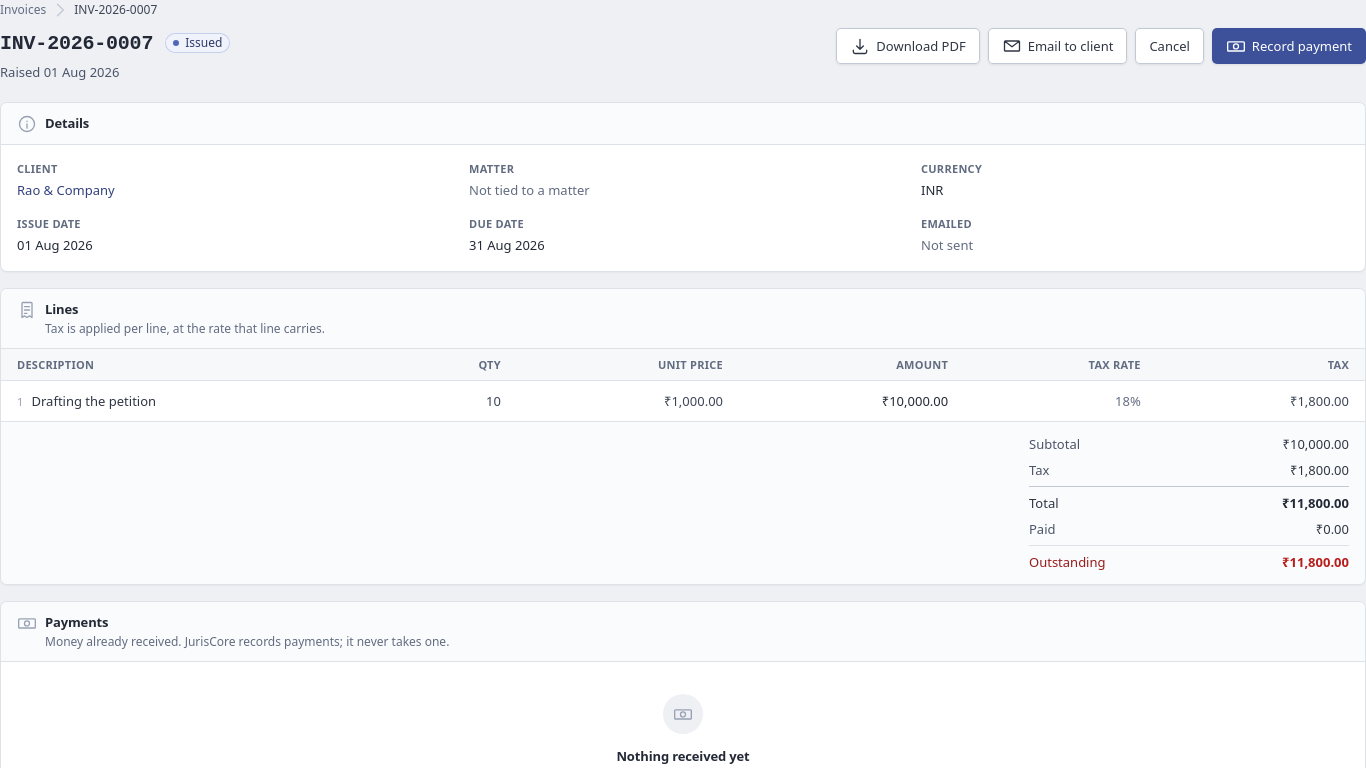
Scenario: InvoiceDetailPage — emailing the client › explains a client with no email instead of offering a send that would fail
The image size is (1366, 768).
Click the button "Email to client". click: (1058, 46)
box: x1=988 y1=28 x2=1127 y2=64
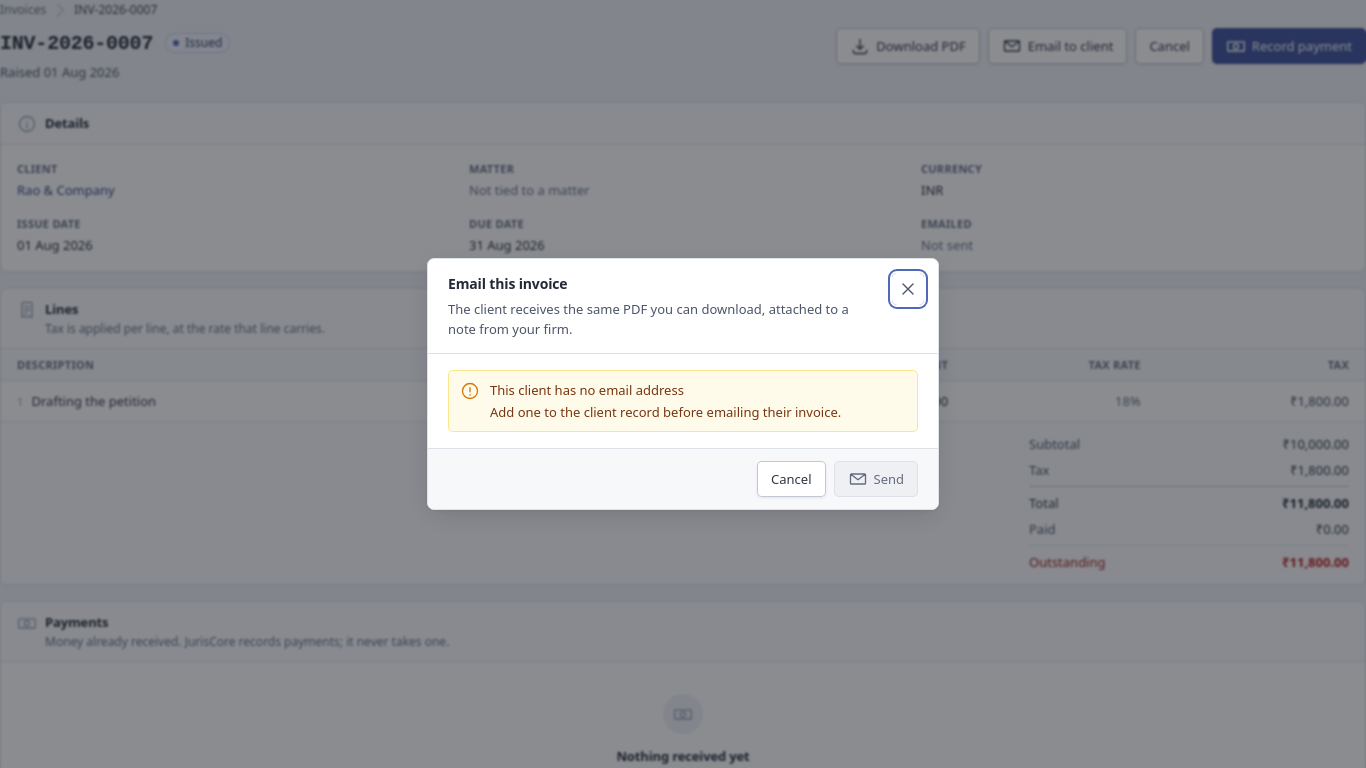
Result: the text "This client has no email address" is shown at x1=490 y1=381 x2=684 y2=399
Result: the button "Send" is disabled at x1=834 y1=461 x2=918 y2=497
